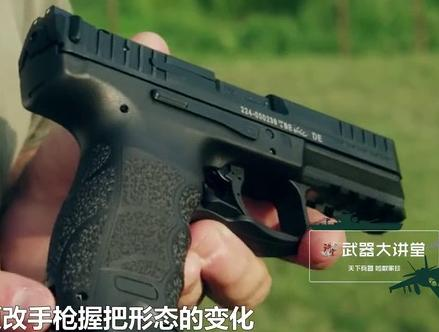gun: (1, 1, 439, 332)
